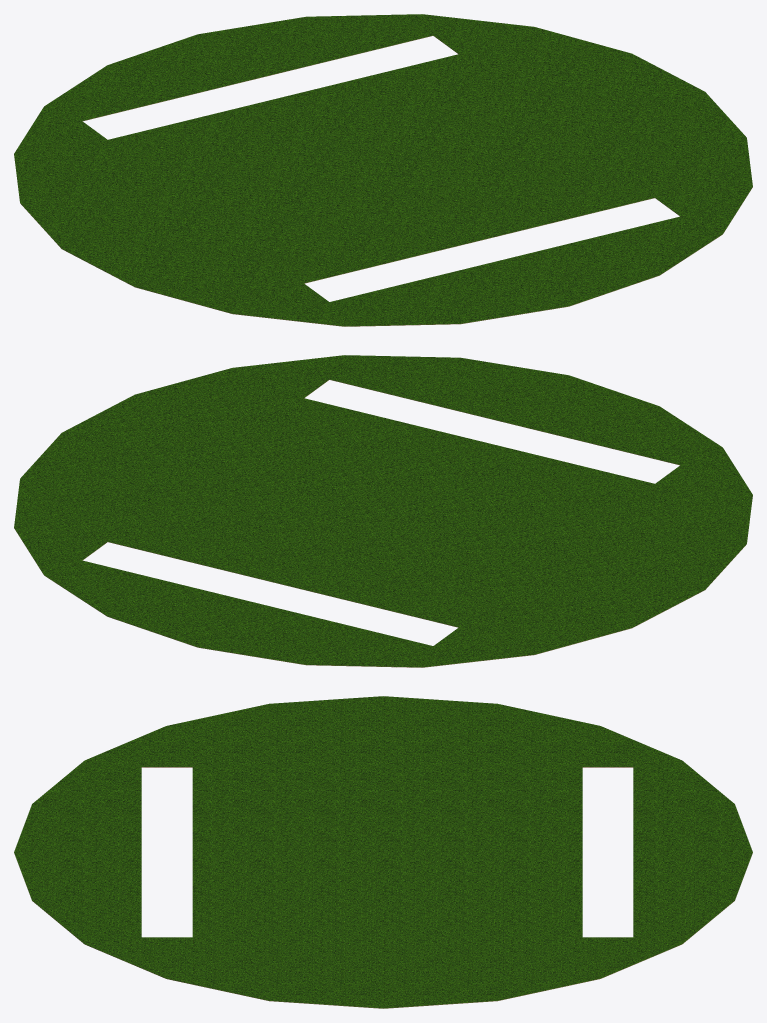
The model's file is Ground_Stage_3.obj.
The picture shows the model from 3 angles, top to bottom: view 1: azimuth 30°, elevation 25°; view 2: azimuth 150°, elevation 25°; view 3: azimuth 270°, elevation 25°; orthographic projection.
Visible parts, largest first — view 1: Ground_Stage_3; view 2: Ground_Stage_3; view 3: Ground_Stage_3.
Part boxes in pixels (x1=…): Ground_Stage_3: x1=14, y1=14, x2=752, y2=326; Ground_Stage_3: x1=14, y1=355, x2=752, y2=667; Ground_Stage_3: x1=14, y1=696, x2=752, y2=1008.
Bounding box in the file's own units: 34.11 × 0.0195 × 34.11.
2 materials, 2 textured.
